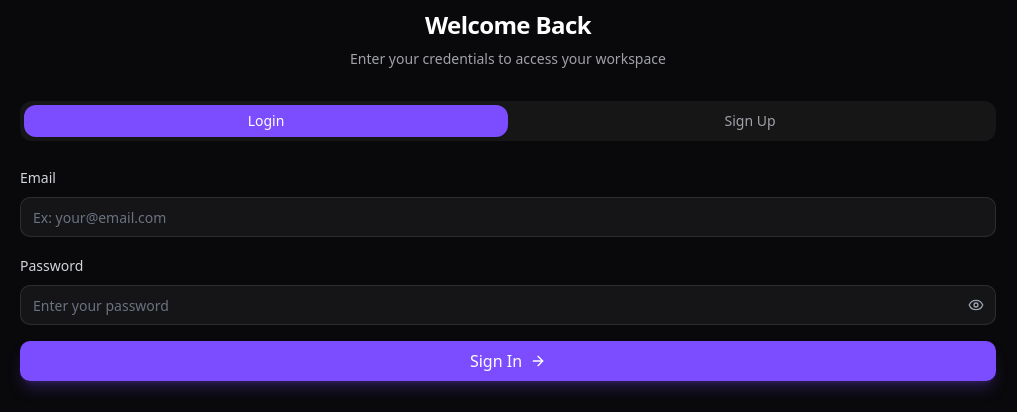
Scenario: LoginForm › Loading state › button shows loading spinner when isLoading is true
This screenshot has width=1017, height=412.
Type "test@example.com" into the field labelled "Email" at (508, 217), box [20,197,996,237]
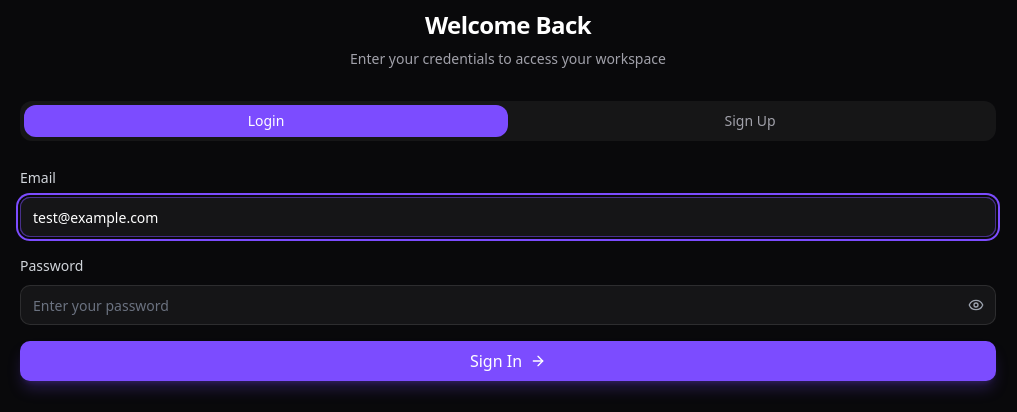
Type "password123" into the password field labelled "Password" at (508, 305), box [20,285,996,325]
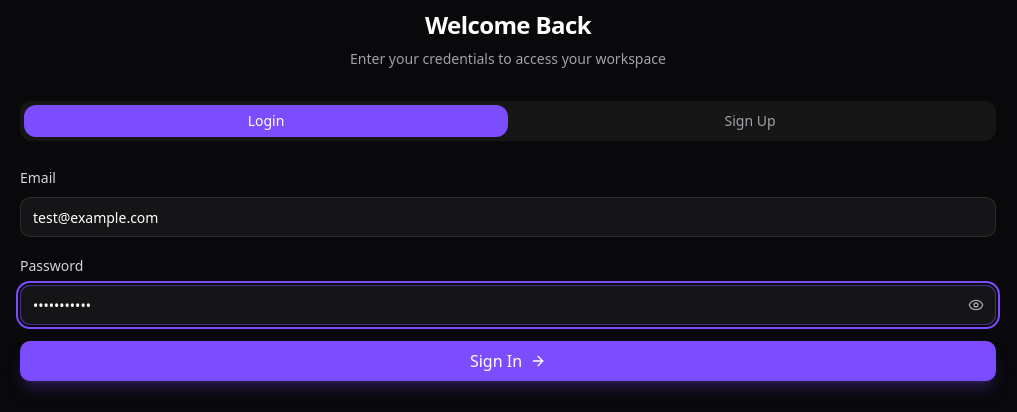
Click the button "Sign In" at (508, 361), box [20,341,996,381]
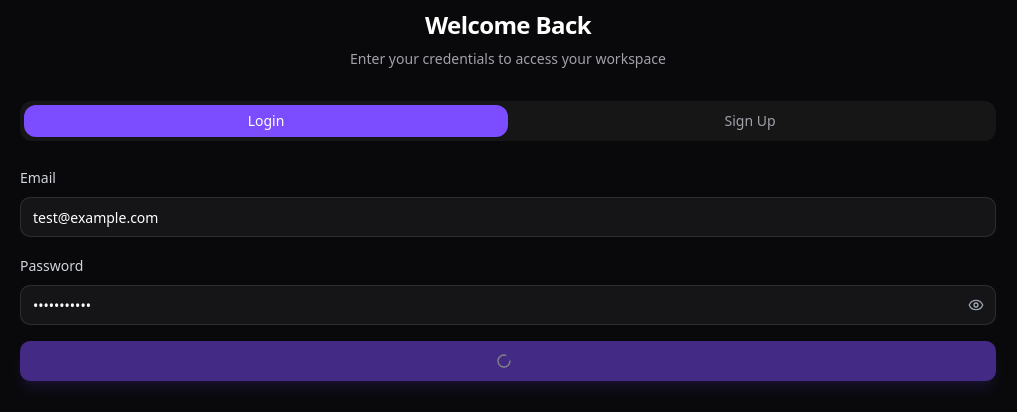
Result: the 2nd button named "sign in" is disabled at [20,341,996,381]
